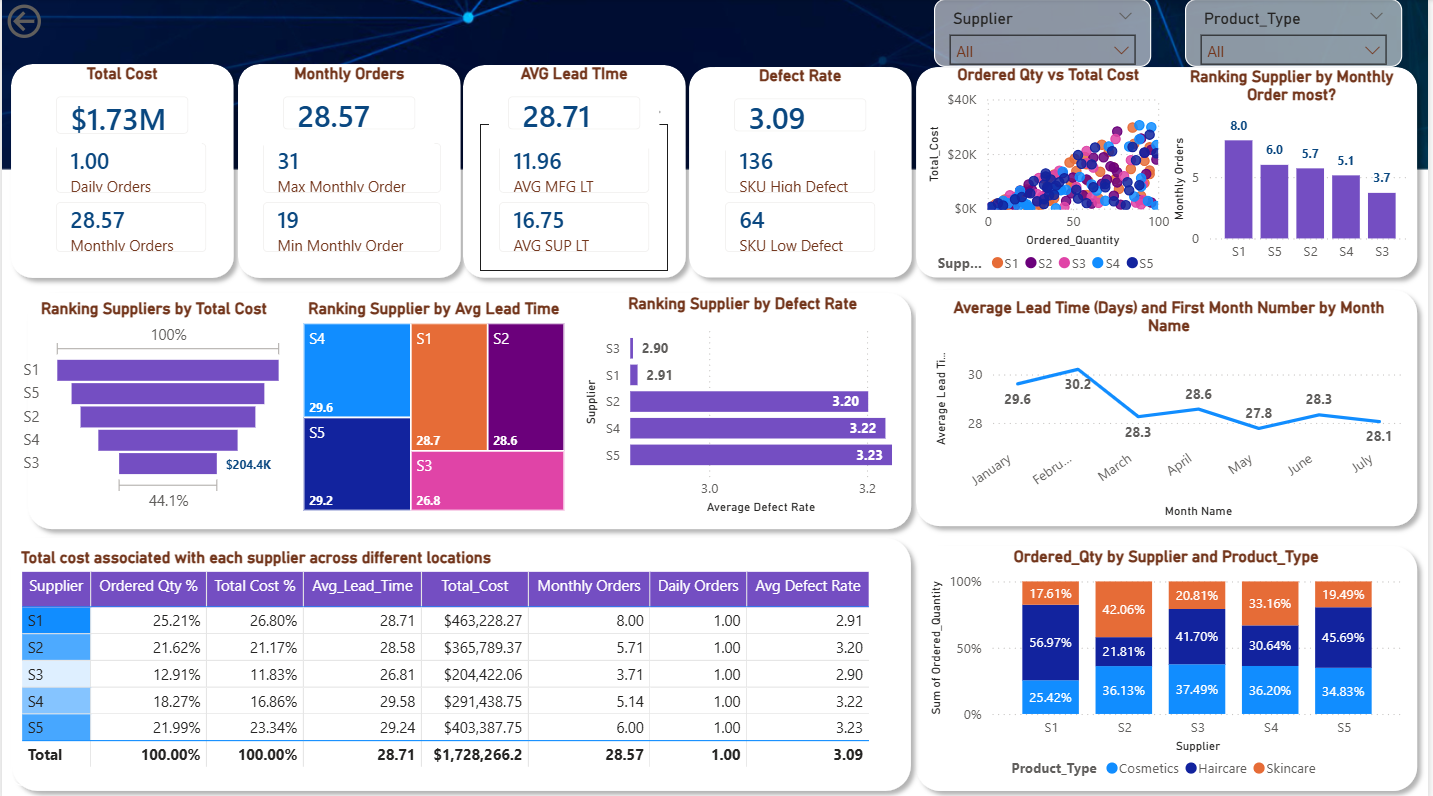

Layout of this report page (visuals, bound fields, positions):
{"tool":"powerbi","page":{"name":"SCM Dashboard 2","canvas":[1280,720],"ordinal":1},"visuals":[{"type":"shape","box":[-1,49,218,210],"z":0},{"type":"cardVisual","fields":{"Data":["M1.Daily Orders","M1.Monthly Orders"]},"box":[31,112,169,132],"z":1000},{"type":"cardVisual","title":"Total Cost","fields":{"Data":["M1.Total Cost"]},"box":[31,59,153,79],"z":2000},{"type":"shape","box":[203,49,218,210],"z":3000},{"type":"cardVisual","fields":{"Data":["M2.Max Monthly Order","M2.Min Monthly Order"]},"box":[217,112,194,133],"z":4000},{"type":"cardVisual","title":"Monthly Orders","fields":{"Data":["M1.Monthly Orders"]},"box":[235,59,153,75],"z":5000},{"type":"shape","box":[405,50,218,209],"z":6000},{"type":"cardVisual","fields":{"Data":["M1.Avg Manufacturing Lead Time","M1.Avg Supplier Lead Time"]},"box":[429,112,169,132],"z":7000},{"type":"cardVisual","title":"AVG Lead TIme","fields":{"Data":["M1.Average Lead Time (Days)"]},"box":[437,59,153,75],"z":8000},{"type":"shape","box":[608,52,218,207],"z":9000},{"type":"cardVisual","fields":{"Data":["M1.SKU High Defect","M1.SKU Low Defect"]},"box":[632,112,169,132],"z":10000},{"type":"cardVisual","title":"Defect Rate","fields":{"Data":["M1.Average Defect Rate"]},"box":[640,61,153,75],"z":11000},{"type":"shape","box":[812,52,468,207],"z":12000},{"type":"clusteredBarChart","title":"Defect Rate by Supplier","fields":{"Category":["SupplyChainData.Supplier"],"Y":["M1.Average Defect Rate"]},"box":[555,270,238,194],"z":13000},{"type":"scatterChart","title":"Ordered Qty vs Total Cost","fields":{"X":["SupplyChainData.Ordered_Quantity"],"Y":["SupplyChainData.Total_Cost"],"Series":["SupplyChainData.Supplier"]},"box":[826,60,227,195],"z":14000},{"type":"slicer","fields":{"Values":["SupplyChainData.Product_Type"]},"box":[1062,0,195,61],"z":15000},{"type":"shape","box":[14,255,811,230],"z":16000},{"type":"funnel","title":"Ranking Suppliers by Total Cost","fields":{"Category":["SupplyChainData.Supplier"],"Y":["Sum(SupplyChainData.Total_Cost)"]},"box":[14,270,244,194],"z":17000},{"type":"treemap","title":"Ranking Supplier by Avg Lead Time","fields":{"Group":["SupplyChainData.Supplier"],"Values":["M1.Average Lead Time (Days)"]},"box":[266,270,244,194],"z":18000},{"type":"columnChart","title":"Ranking Supplier by Monthly Order most?","fields":{"Category":["SupplyChainData.Supplier"],"Y":["M1.Monthly Orders"]},"box":[1046,62,224,183],"z":19000},{"type":"shape","box":[812,482,468,238],"z":20000},{"type":"shape","box":[812,252,468,230],"z":21000},{"type":"shape","box":[0,475,825,245],"z":22000},{"type":"tableEx","title":"Total cost associated with each supplier across different locations","fields":{"Values":["SupplyChainData.Supplier","M2.Ordered Qty %","M2.Total Cost %","Avg(SupplyChainData.Avg_Lead_Time)","Sum(SupplyChainData.Total_Cost)","M1.Monthly Orders","M1.Daily Orders","M1.Average Defect Rate"]},"box":[8,489,794,217],"z":23000},{"type":"lineChart","fields":{"Category":["Date Table.Month Name"],"Y":["M1.Average Lead Time (Days)"]},"box":[832,269,431,201],"z":24000},{"type":"slicer","fields":{"Values":["SupplyChainData.Supplier"]},"box":[837,0,195,61],"z":25000},{"type":"clusteredBarChart","title":"Ranking Supplier by Defect Rate","fields":{"Category":["SupplyChainData.Supplier"],"Y":["M1.Average Defect Rate"]},"box":[518,266,294,201],"z":26000},{"type":"actionButton","box":[0,0,100,40],"z":27000},{"type":"hundredPercentStackedColumnChart","title":"Ordered_Qty by Supplier and Product_Type","fields":{"Category":["SupplyChainData.Supplier"],"Series":["SupplyChainData.Product_Type"],"Y":["Sum(SupplyChainData.Ordered_Quantity)"]},"box":[828,493,435,216],"z":28000}]}

Visuals, with their boxes in screenshot pixels (x1, y1, x2, y2), scaled from the page's 1280x720 canvas onto the 1433x796 screenshot:
shape: (x1=0, y1=54, x2=243, y2=286)
cardVisual - M1.Daily Orders x M1.Monthly Orders: (x1=35, y1=124, x2=224, y2=270)
"Total Cost" cardVisual: (x1=35, y1=65, x2=206, y2=153)
shape: (x1=227, y1=54, x2=471, y2=286)
cardVisual - M2.Max Monthly Order x M2.Min Monthly Order: (x1=243, y1=124, x2=460, y2=271)
"Monthly Orders" cardVisual: (x1=263, y1=65, x2=434, y2=148)
shape: (x1=453, y1=55, x2=697, y2=286)
cardVisual - M1.Avg Manufacturing Lead Time x M1.Avg Supplier Lead Time: (x1=480, y1=124, x2=669, y2=270)
"AVG Lead TIme" cardVisual: (x1=489, y1=65, x2=661, y2=148)
shape: (x1=681, y1=57, x2=925, y2=286)
cardVisual - M1.SKU High Defect x M1.SKU Low Defect: (x1=708, y1=124, x2=897, y2=270)
"Defect Rate" cardVisual: (x1=716, y1=67, x2=888, y2=150)
shape: (x1=909, y1=57, x2=1432, y2=286)
"Defect Rate by Supplier" clusteredBarChart: (x1=621, y1=298, x2=888, y2=513)
"Ordered Qty vs Total Cost" scatterChart: (x1=925, y1=66, x2=1179, y2=282)
slicer - SupplyChainData.Product_Type: (x1=1189, y1=0, x2=1407, y2=67)
shape: (x1=16, y1=282, x2=924, y2=536)
"Ranking Suppliers by Total Cost" funnel: (x1=16, y1=298, x2=289, y2=513)
"Ranking Supplier by Avg Lead Time" treemap: (x1=298, y1=298, x2=571, y2=513)
"Ranking Supplier by Monthly Order most?" columnChart: (x1=1171, y1=69, x2=1422, y2=271)
shape: (x1=909, y1=533, x2=1432, y2=795)
shape: (x1=909, y1=279, x2=1432, y2=533)
shape: (x1=0, y1=525, x2=924, y2=795)
"Total cost associated with each supplier across different locations" tableEx: (x1=9, y1=541, x2=898, y2=781)
lineChart - Date Table.Month Name x M1.Average Lead Time (Days): (x1=931, y1=297, x2=1414, y2=520)
slicer - SupplyChainData.Supplier: (x1=937, y1=0, x2=1155, y2=67)
"Ranking Supplier by Defect Rate" clusteredBarChart: (x1=580, y1=294, x2=909, y2=516)
actionButton: (x1=0, y1=0, x2=112, y2=44)
"Ordered_Qty by Supplier and Product_Type" hundredPercentStackedColumnChart: (x1=927, y1=545, x2=1414, y2=784)
